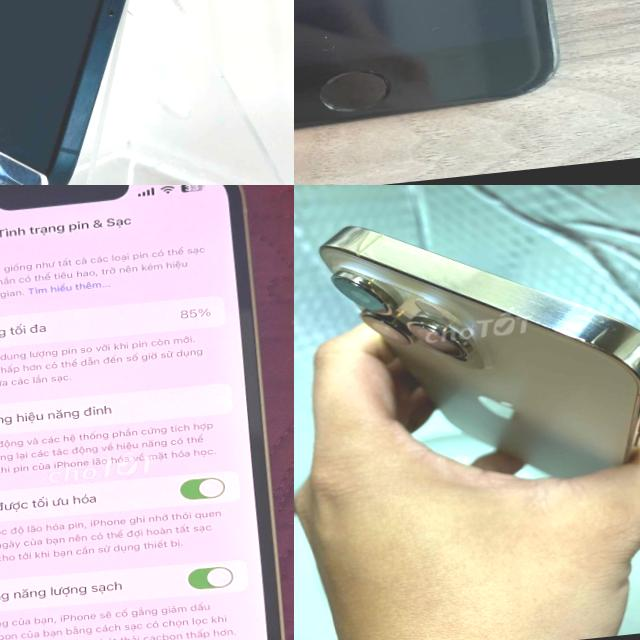gen_12_13: (0, 185, 294, 640)
gen_14: (300, 193, 640, 511)
gen_15: (0, 0, 270, 185)
gen_7_8: (294, 0, 573, 156)
